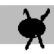not correct: (17, 7, 52, 54)
